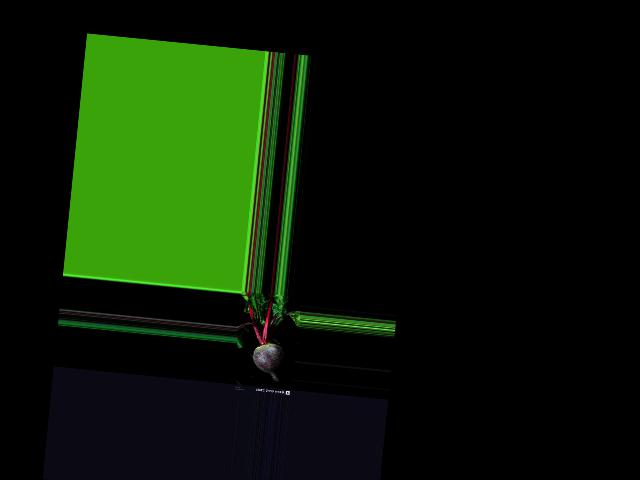beet: (232, 291, 301, 383)
